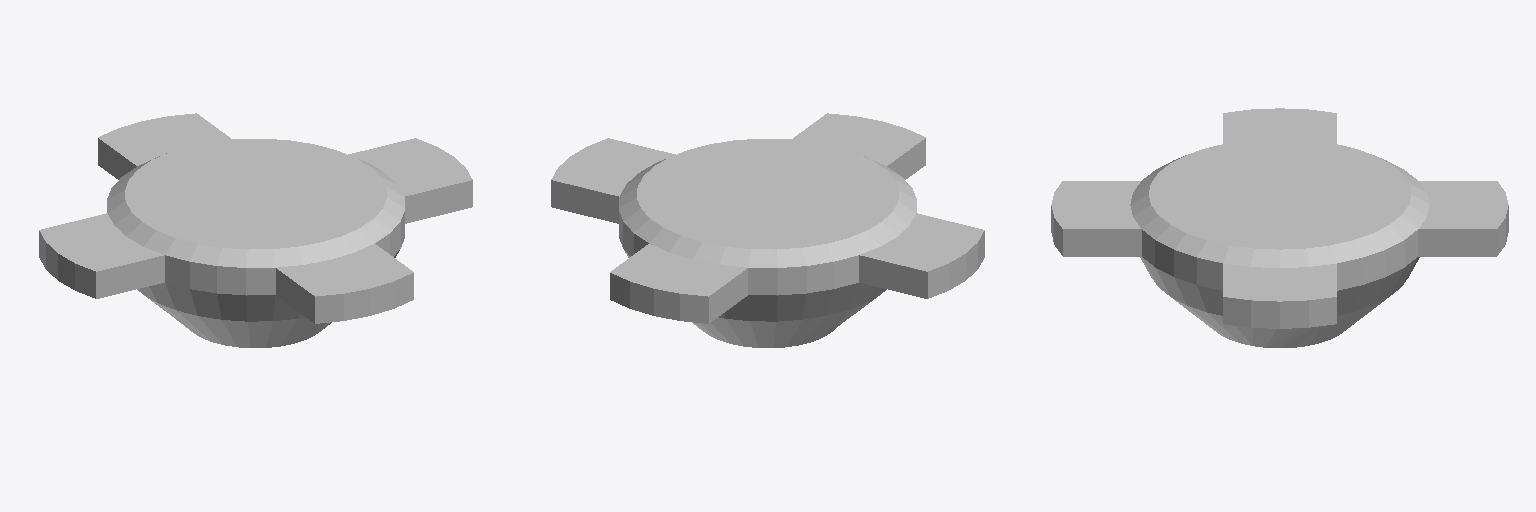
The model's file is bowl_spawner.obj.
The picture shows the model from 3 angles: view 1: azimuth 30°, elevation 25°; view 2: azimuth 150°, elevation 25°; view 3: azimuth 270°, elevation 25°; orthographic projection.
Parts seen in each view (by area): view 1: Cylinder.002; view 2: Cylinder.002; view 3: Cylinder.002.
Part boxes in pixels (x1,y1,x2,y2): Cylinder.002: (39,113,472,347); Cylinder.002: (551,113,984,347); Cylinder.002: (1051,108,1508,347).
Bounding box in the file's own units: 3.48 × 1.04 × 3.48.